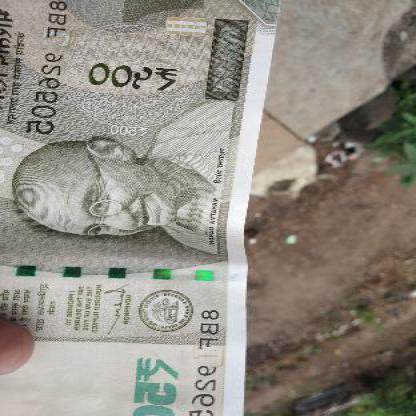New500Front: (0, 9, 283, 415)
